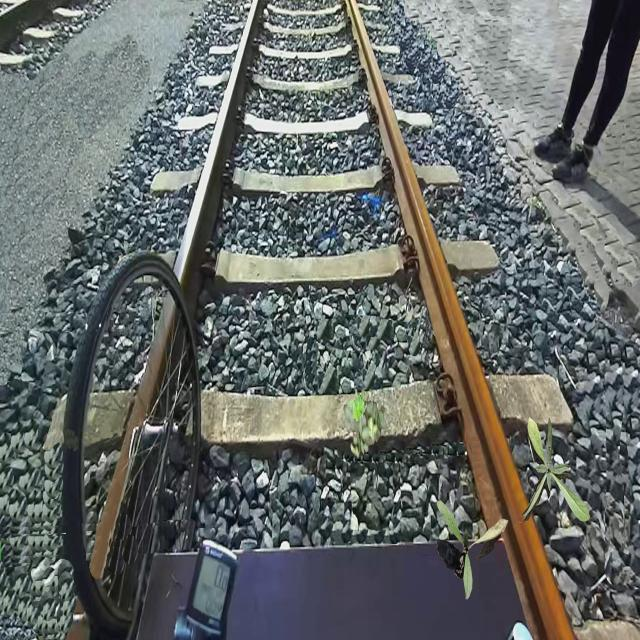Plant: (518, 416, 590, 524), (437, 500, 508, 600), (343, 393, 386, 460), (346, 389, 366, 422)
